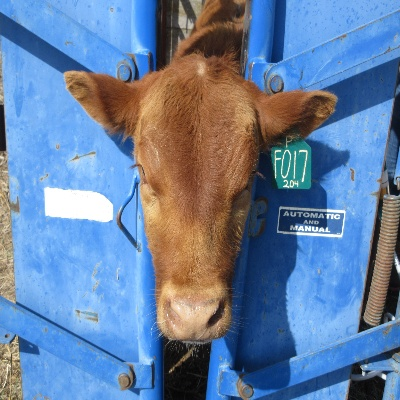fidget_spinner: (161, 296, 226, 338)
